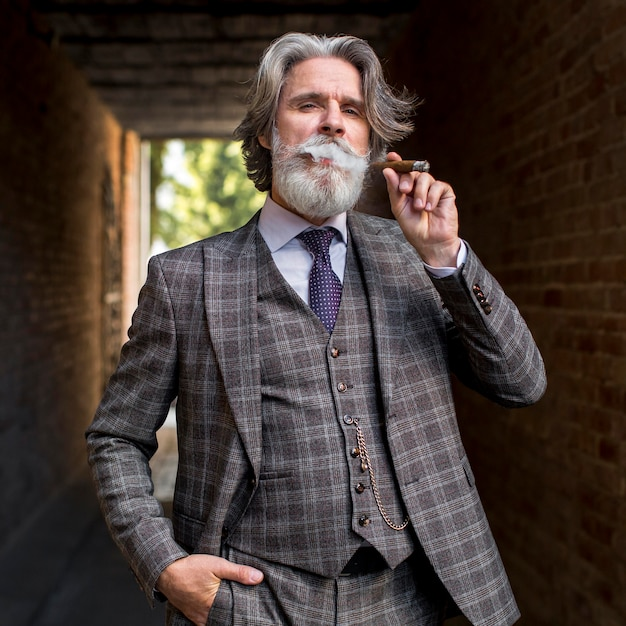cigarette: (367, 157, 431, 173)
